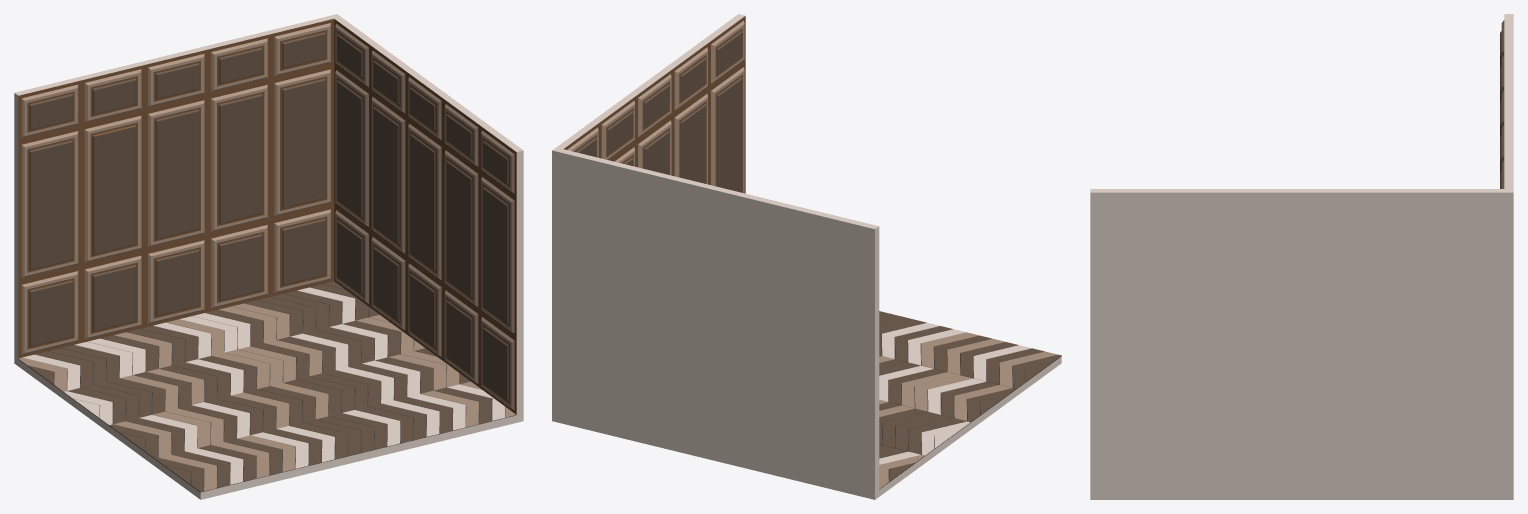
File: room_03.glb
3 renders of one model, left to right at view 1: azimuth 30°, elevation 25°; view 2: azimuth 150°, elevation 25°; view 3: azimuth 270°, elevation 25°, orthographic. The views are drawn at different scales.
Parts seen in each view (by area): view 1: room_03; view 2: room_03; view 3: room_03.
Part boxes in pixels (x1,y1,x2,y2): room_03: [14, 14, 523, 499]; room_03: [552, 14, 1061, 499]; room_03: [1090, 14, 1513, 499].
Size of the model in its own units: 5.01 by 4.01 by 5.
Materials: 1 (1 with a texture image).
